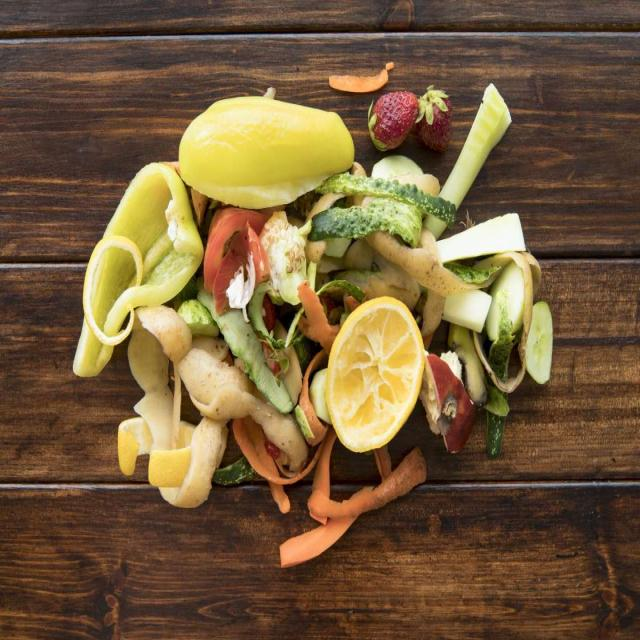Wet: (73, 160, 205, 376), (127, 304, 250, 509), (178, 96, 355, 208), (324, 296, 426, 454), (430, 84, 512, 241), (364, 230, 522, 297), (307, 444, 427, 522), (205, 208, 272, 318), (320, 173, 461, 224), (83, 234, 143, 344), (419, 350, 477, 456), (117, 416, 199, 488), (312, 202, 421, 248), (260, 214, 314, 306), (442, 211, 535, 264), (487, 325, 518, 461), (277, 526, 376, 568), (368, 93, 419, 153), (415, 85, 454, 154), (524, 298, 552, 386), (442, 287, 492, 334), (328, 62, 394, 94), (211, 455, 266, 491), (177, 300, 221, 340)
